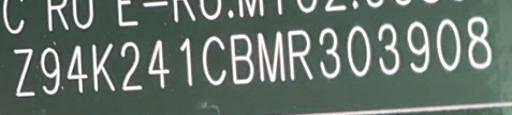letter: (432, 16, 464, 77), (253, 28, 287, 85), (466, 15, 494, 74), (404, 18, 432, 77), (285, 29, 315, 84), (89, 40, 119, 95), (375, 20, 403, 77), (200, 34, 228, 91), (229, 31, 255, 90), (346, 23, 372, 80), (118, 38, 144, 95), (315, 25, 341, 80), (10, 46, 36, 97), (146, 37, 170, 92), (37, 44, 61, 99), (64, 41, 88, 94), (178, 33, 194, 88)
